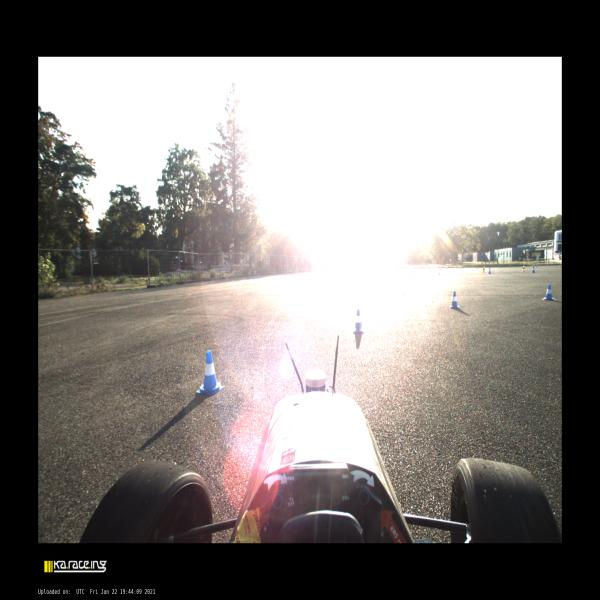blue_cone: (194, 348, 226, 397), (352, 309, 365, 335), (542, 283, 557, 302), (450, 290, 460, 310), (531, 265, 536, 274), (488, 267, 491, 274), (438, 269, 441, 275), (498, 265, 500, 268), (536, 264, 537, 267), (461, 265, 462, 268), (477, 266, 478, 268)
yellow_cone: (522, 265, 526, 272), (482, 266, 485, 273), (558, 263, 562, 267), (508, 264, 510, 268), (460, 266, 461, 269)
